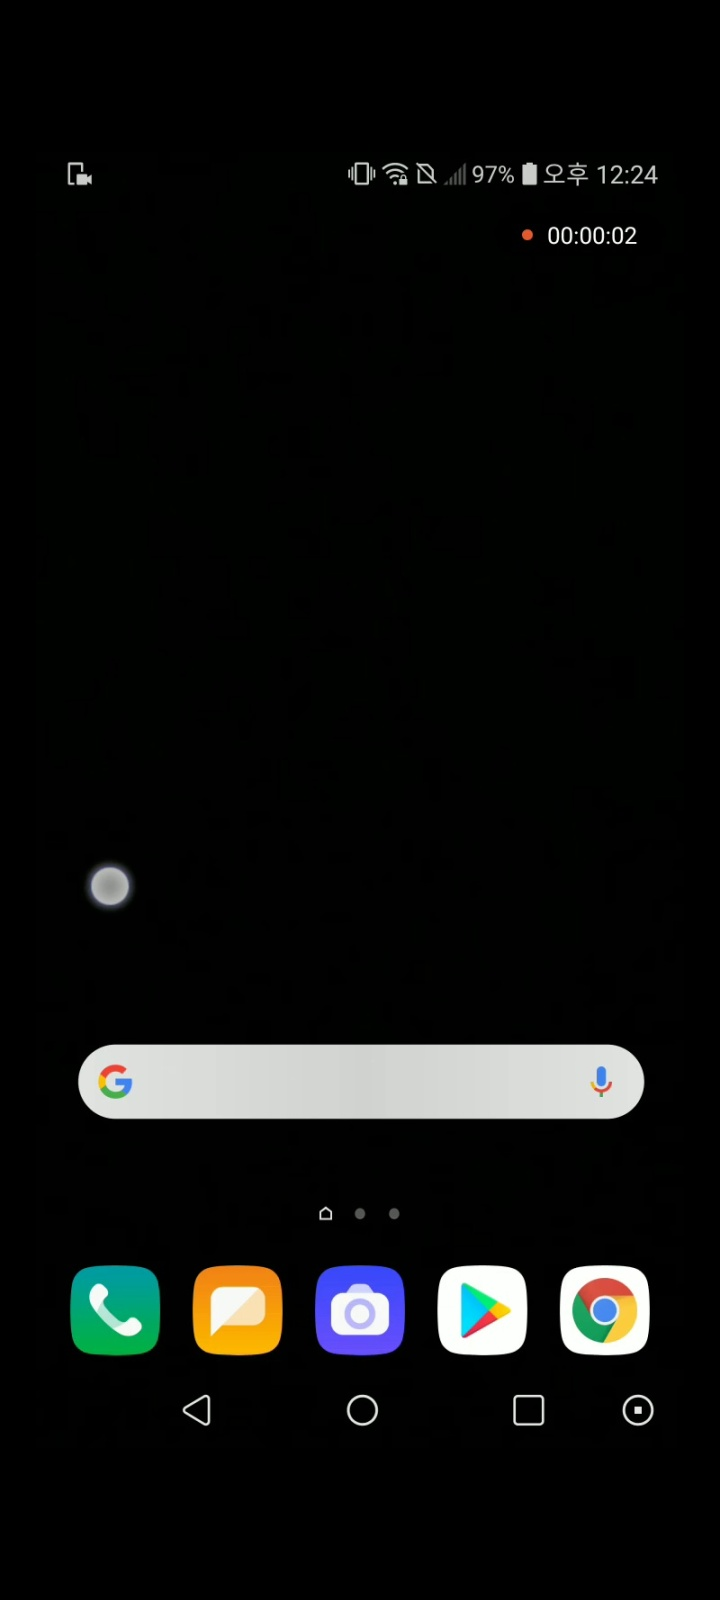Cursor: (87, 864, 132, 909)
